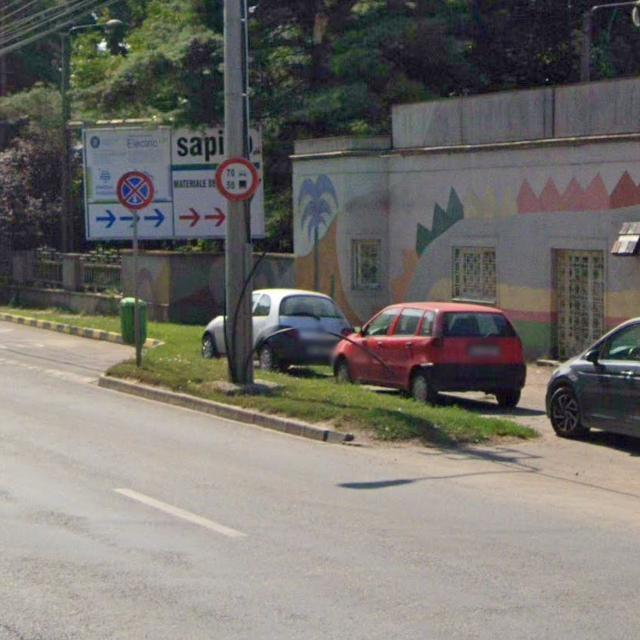forb_waiting: (117, 171, 155, 210)
